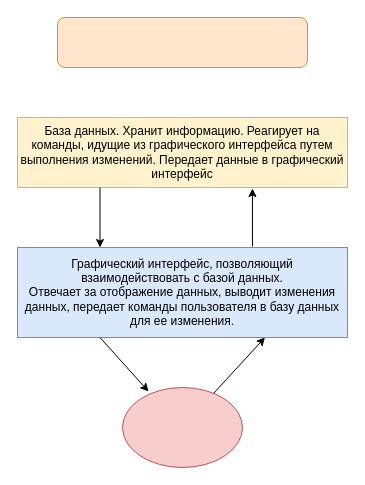
Some shapes in this 365 by 485 pixel diagram are drawn without their labels. Here are the shapes that lost their labels. From the top down, the centre of each, then its label:
point 182,42: Архитектура приложения
point 182,427: Пользователь
